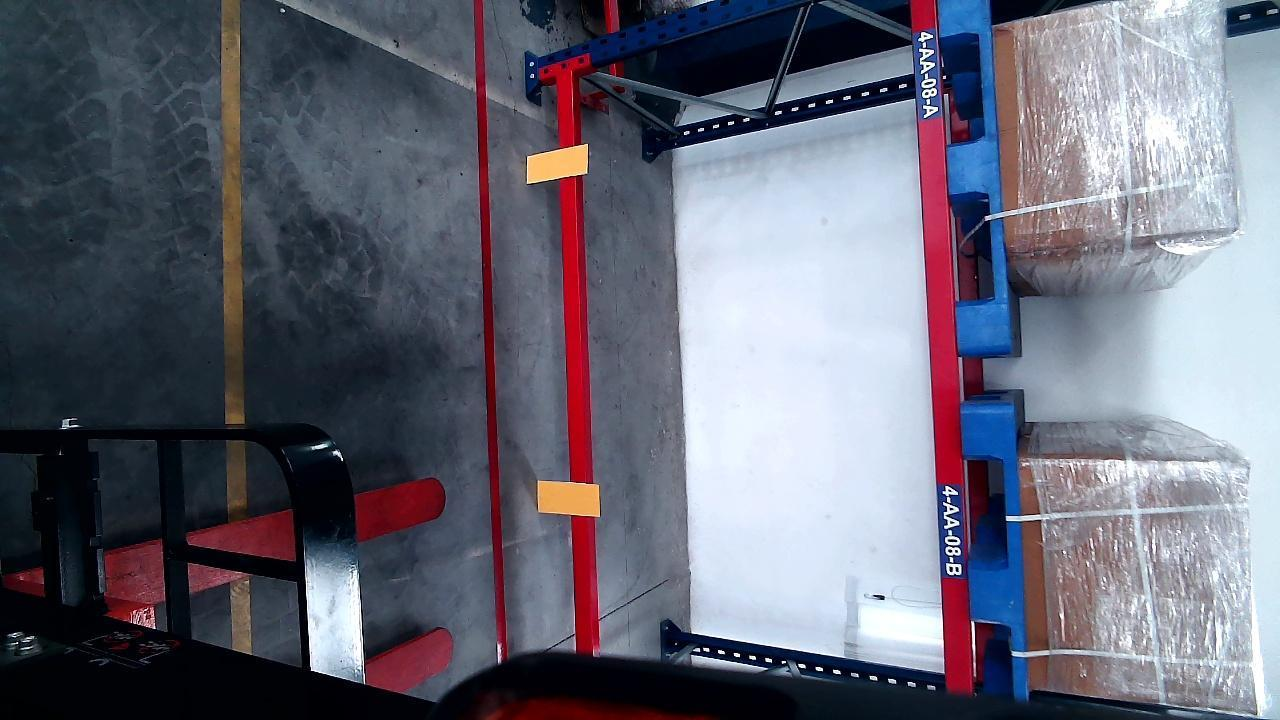h_rack: (912, 0, 971, 690), (554, 66, 596, 660)
orange_strip: (527, 144, 588, 183), (536, 479, 599, 516)
red_line: (474, 0, 508, 669)
small_pallet: (939, 0, 1008, 348), (965, 409, 1026, 689)
yellow_line: (220, 1, 246, 417)
